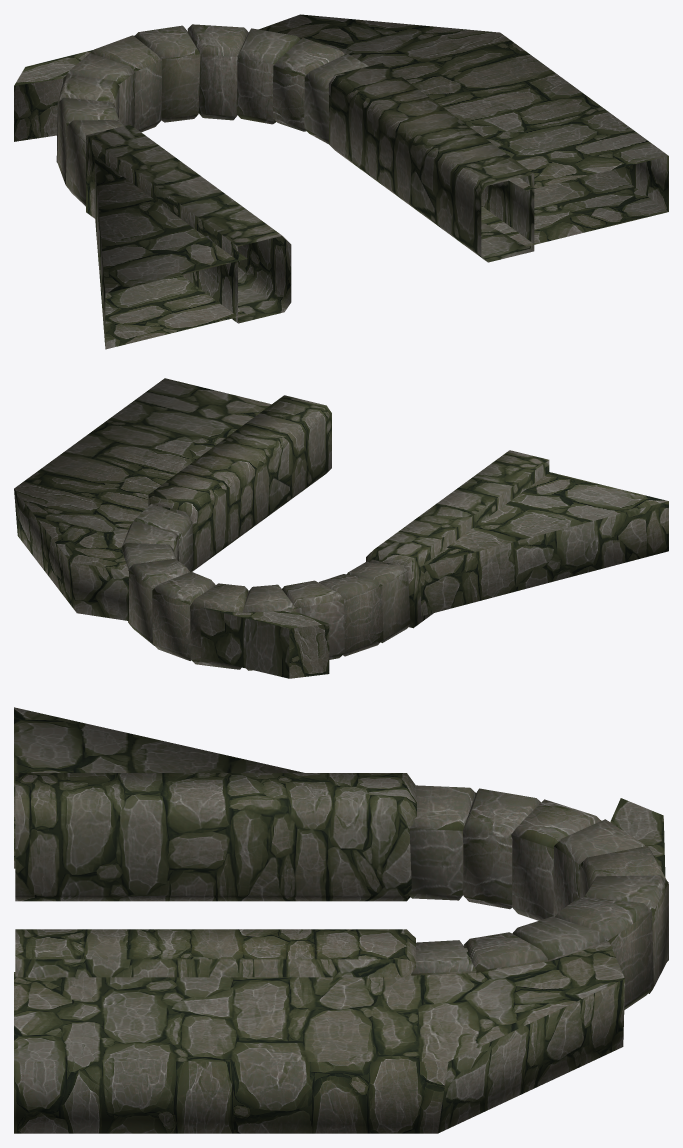
The model's file is TI_Archway_03.fbx.
3 views of the same model, one above another, from view 1: azimuth 30°, elevation 25°; view 2: azimuth 150°, elevation 25°; view 3: azimuth 270°, elevation 25° (orthographic). The views are drawn at different scales.
Parts seen in each view (by area): view 1: TI_Archway_03; view 2: TI_Archway_03; view 3: TI_Archway_03.
Boxes of the visible parts, x1=… form: TI_Archway_03: x1=14, y1=14, x2=668, y2=349; TI_Archway_03: x1=14, y1=378, x2=668, y2=678; TI_Archway_03: x1=14, y1=707, x2=668, y2=1133.
Bounding box in the file's own units: 5.04 × 0.6912 × 3.94.
